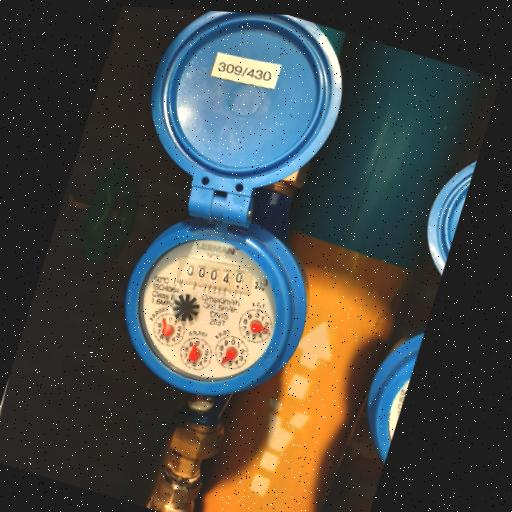0: (229, 267, 248, 292), (205, 265, 222, 285), (182, 261, 198, 281), (194, 263, 210, 283)
4: (217, 267, 235, 289)
border_water_meter_number: (171, 246, 260, 306)
